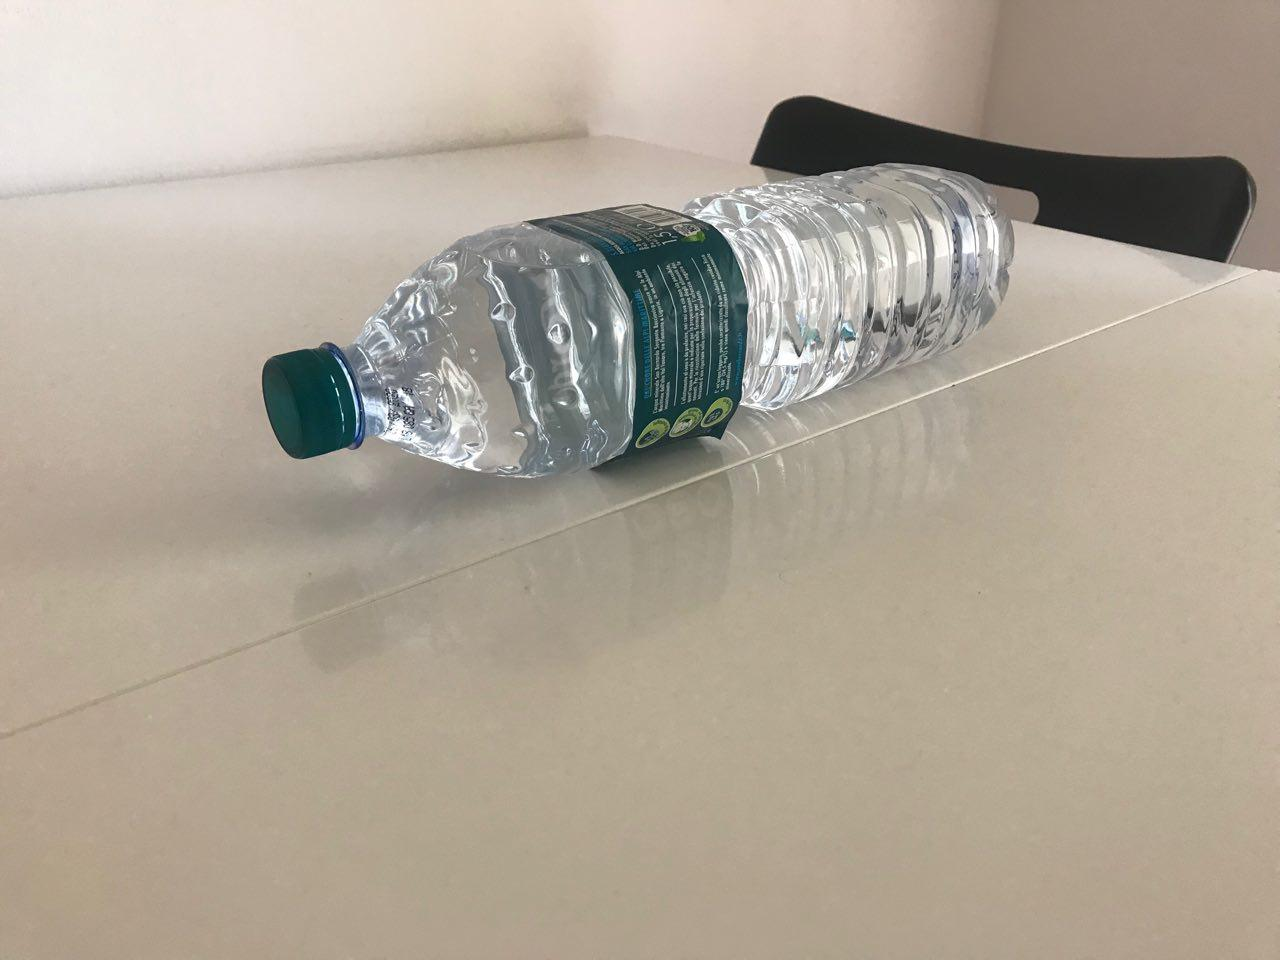san_bernardo: (260, 161, 1016, 482)
